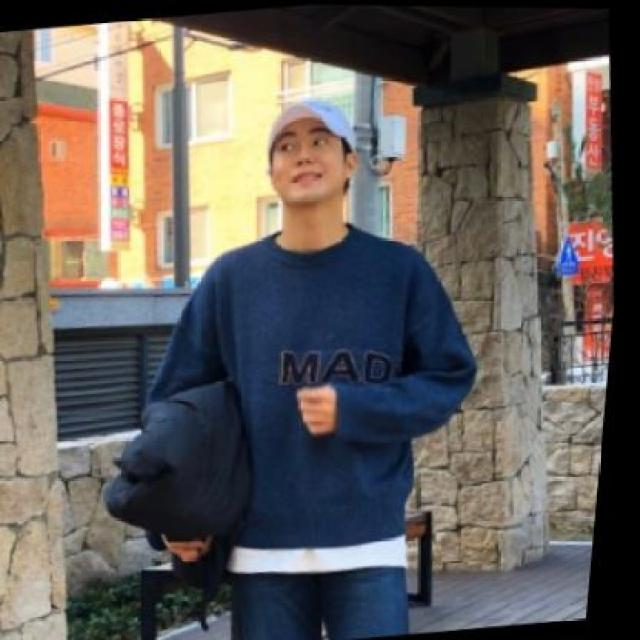hat: (255, 81, 371, 168)
